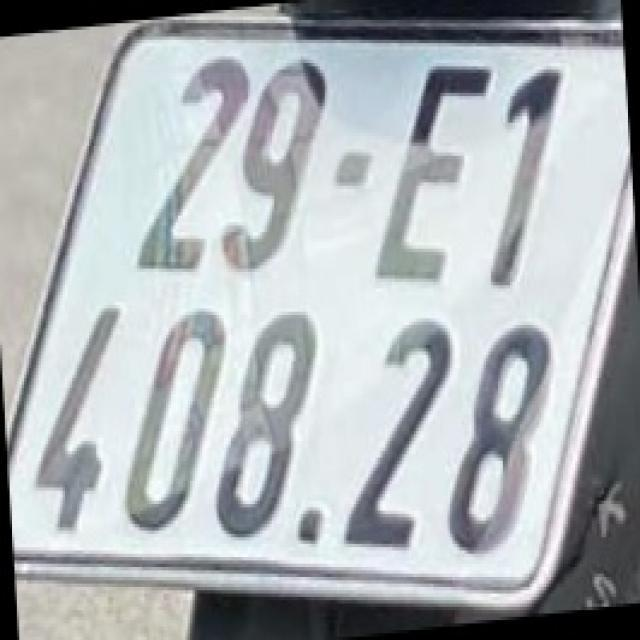0: (120, 302, 224, 537)
1: (488, 60, 566, 292)
2: (342, 308, 450, 550), (132, 46, 241, 278)
4: (31, 295, 120, 537)
8: (445, 314, 551, 560), (225, 303, 316, 529)
9: (222, 49, 328, 278)
E: (380, 53, 486, 285)
